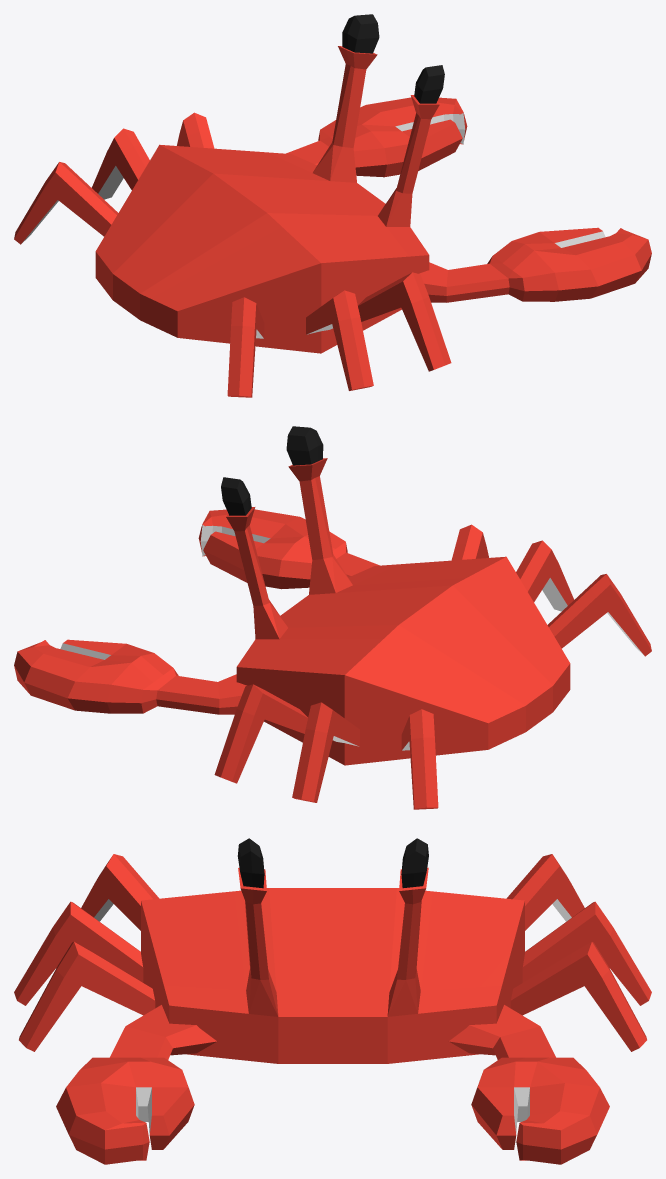
File: crab.fbx
The picture shows the model from 3 angles, top to bottom: view 1: azimuth 30°, elevation 25°; view 2: azimuth 150°, elevation 25°; view 3: azimuth 270°, elevation 25°; orthographic projection. The views are drawn at different scales.
Parts seen in each view (by area): view 1: Crab_01_Cube.039; view 2: Crab_01_Cube.039; view 3: Crab_01_Cube.039.
Part boxes in pixels (bbox=[...]): Crab_01_Cube.039: bbox=[14, 14, 651, 397]; Crab_01_Cube.039: bbox=[14, 426, 651, 809]; Crab_01_Cube.039: bbox=[14, 838, 651, 1164].
Bounding box in the file's own units: 1821 × 898 × 1949.
